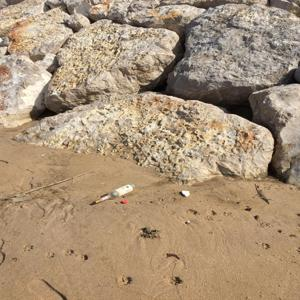glass: (87, 181, 138, 204)
plastic: (120, 199, 131, 206)
